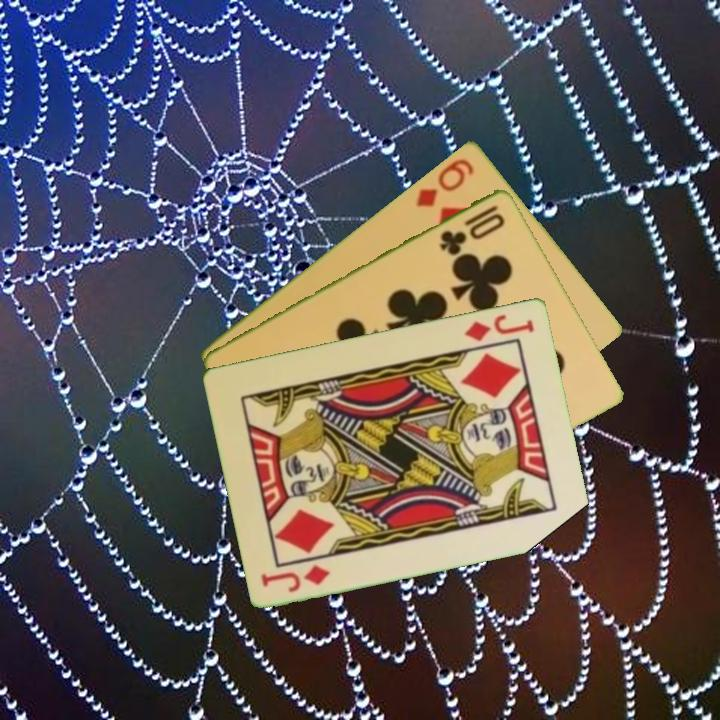10c: (436, 201, 508, 258)
6d: (412, 154, 477, 210)
Jd: (257, 561, 334, 595), (462, 310, 537, 344)
